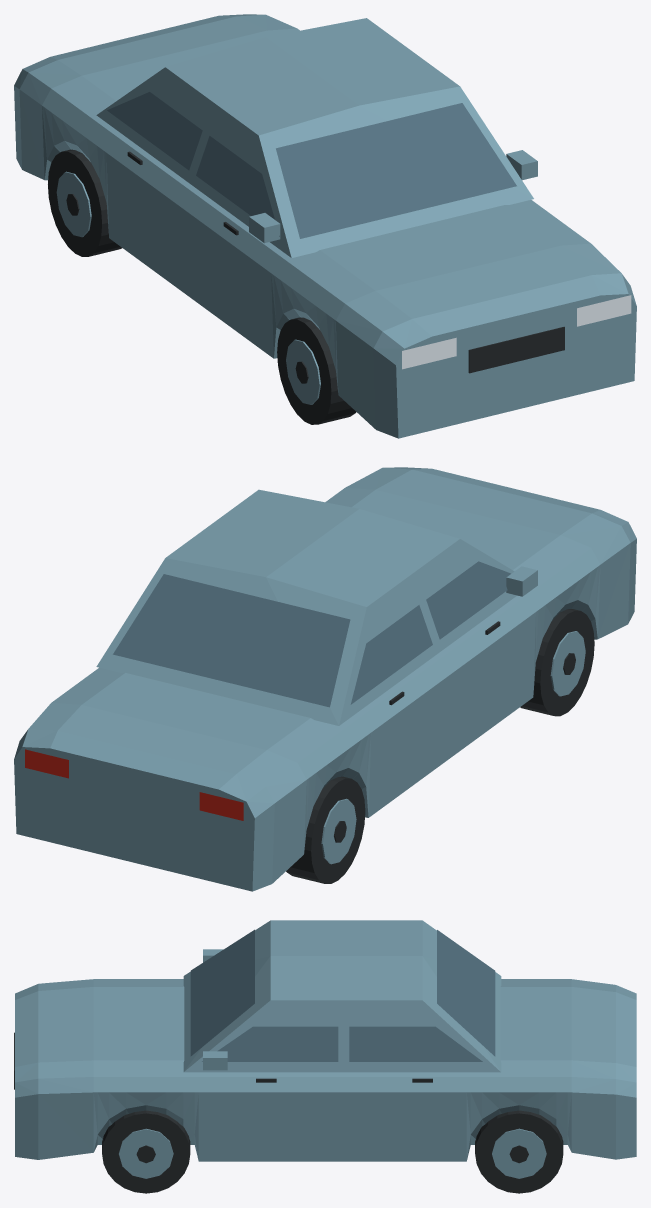
The model's file is traffic-sedan.lod0.glb.
3 views of the same model, one above another, from view 1: azimuth 30°, elevation 25°; view 2: azimuth 150°, elevation 25°; view 3: azimuth 270°, elevation 25° (orthographic). The views are drawn at different scales.
Visible parts, largest first — view 1: body-shell, glass, wheel-front-right, wheel-rear-right, trim; view 2: body-shell, glass, wheel-rear-right, wheel-front-right; view 3: body-shell, glass, wheel-front-left, wheel-rear-left.
Part boxes in pixels (left/top/right/bottom): body-shell: left=14, top=14, right=636, bottom=438; glass: left=107, top=92, right=631, bottom=369; wheel-front-right: left=277, top=317, right=356, bottom=424; wheel-rear-right: left=48, top=149, right=121, bottom=256; trim: left=127, top=151, right=564, bottom=373; body-shell: left=14, top=467, right=636, bottom=891; glass: left=25, top=561, right=510, bottom=820; wheel-rear-right: left=286, top=776, right=365, bottom=883; wheel-front-right: left=520, top=609, right=594, bottom=716; body-shell: left=15, top=920, right=636, bottom=1161; glass: left=190, top=929, right=495, bottom=1061; wheel-front-left: left=102, top=1110, right=190, bottom=1193; wheel-rear-left: left=475, top=1110, right=563, bottom=1193.
Size of the model in its own units: 1.86 by 1.48 by 4.51.
